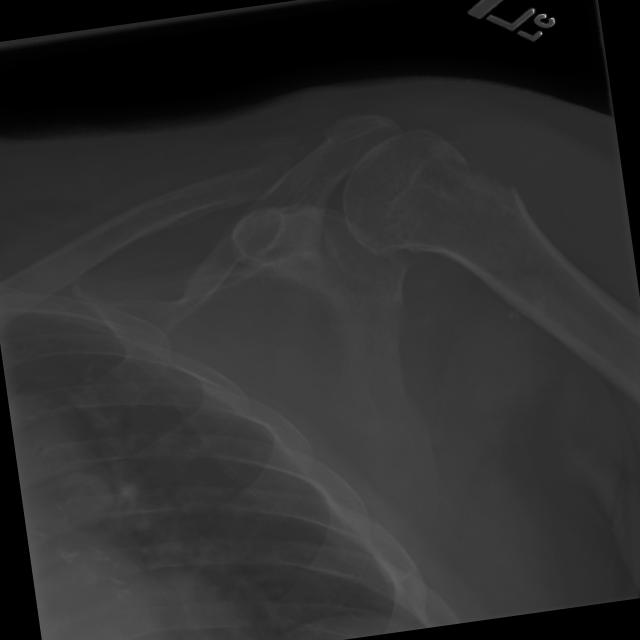shoulder fracture: (383, 125, 555, 312)
